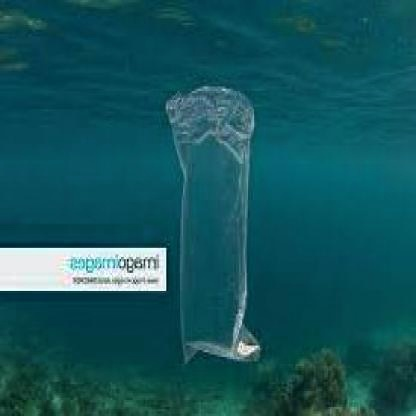pbag: (165, 84, 262, 368)
